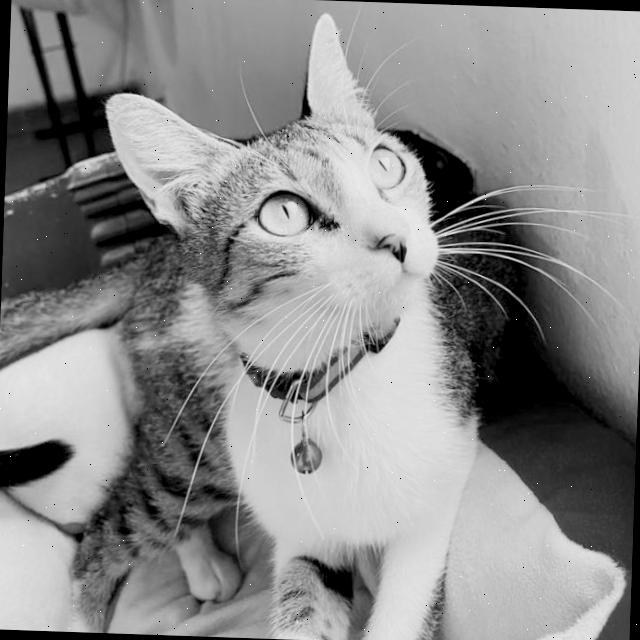american_shorthair_cat: (89, 0, 463, 391)
